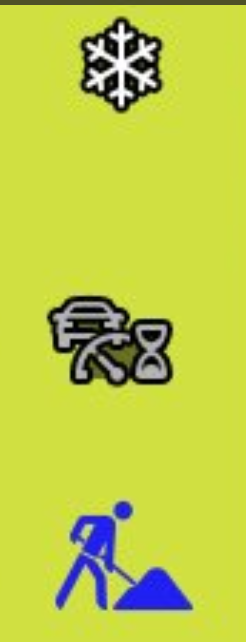ACCELERATOR: (21, 482, 211, 624)
ACC_WAITING: (23, 279, 206, 397)
EISSTERN: (44, 7, 200, 119)
